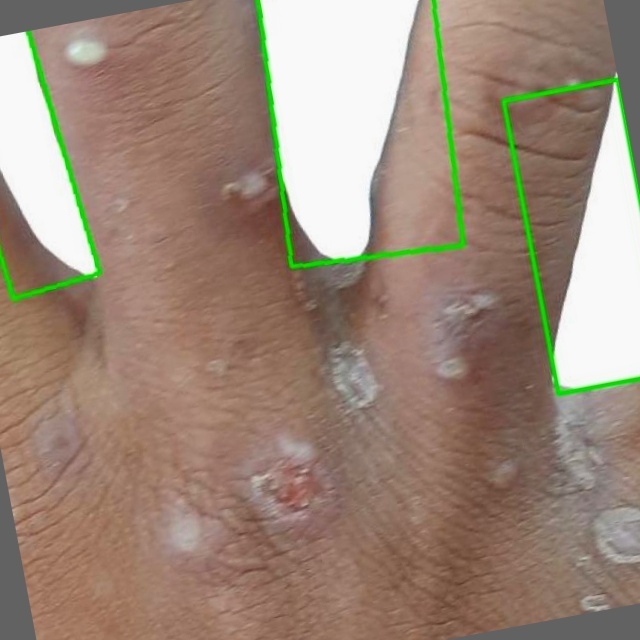Scabies: (257, 0, 463, 267), (502, 79, 639, 395), (0, 31, 99, 299)
